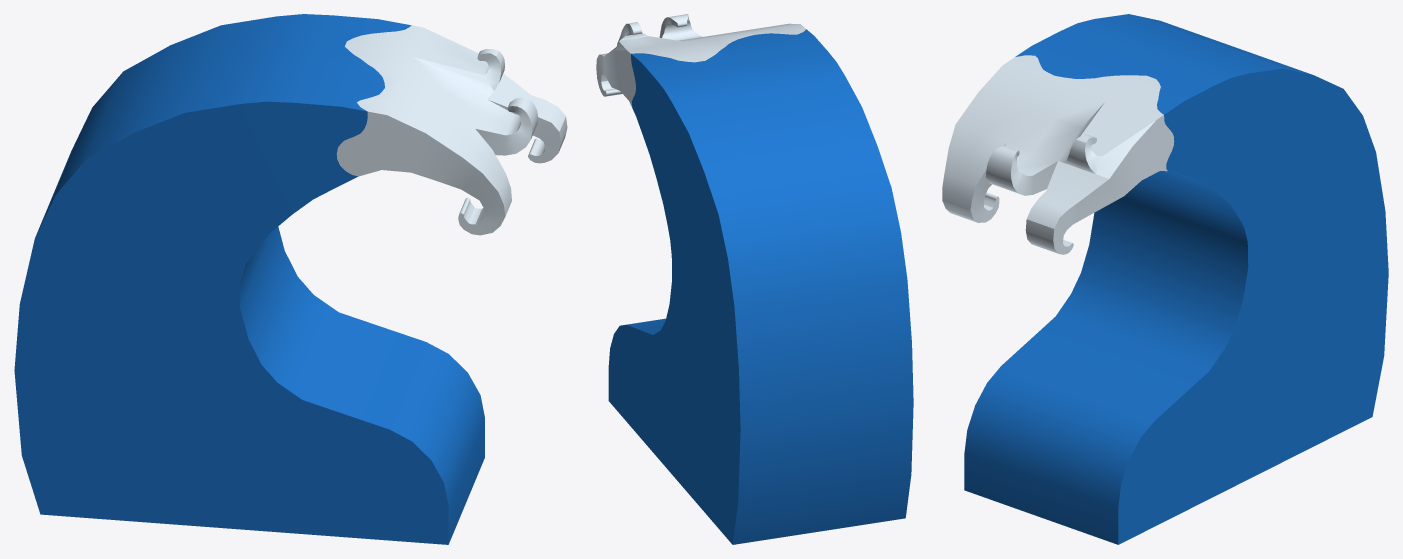
The model's file is water_wave.gltf.
3 views of the same model, side by side, from view 1: azimuth 30°, elevation 25°; view 2: azimuth 150°, elevation 25°; view 3: azimuth 270°, elevation 25° (orthographic). The views are drawn at different scales.
Parts seen in each view (by area): view 1: Cube.731; view 2: Cube.731; view 3: Cube.731.
Part boxes in pixels (left/top/right/bottom): Cube.731: left=14, top=14, right=567, bottom=544; Cube.731: left=596, top=14, right=913, bottom=544; Cube.731: left=942, top=14, right=1388, bottom=544.
Bounding box in the file's own units: 2.19 × 1.97 × 1.94.
Materials: 1 (1 with a texture image).
